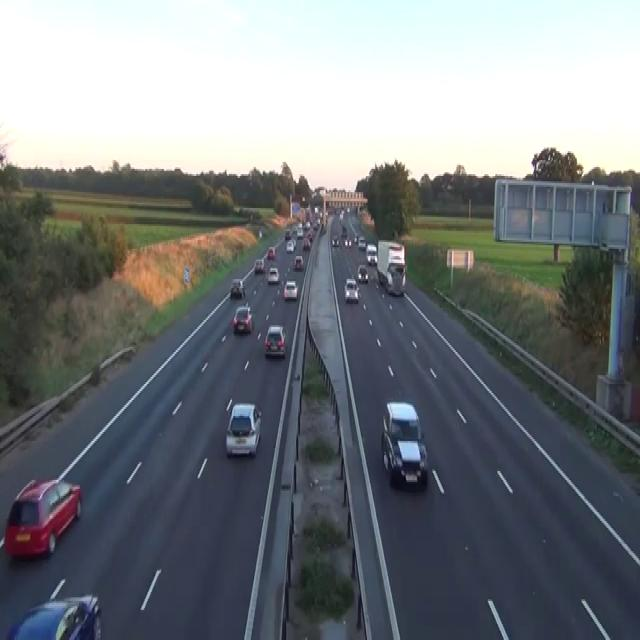Car: (4, 476, 82, 560), (6, 578, 102, 638), (380, 400, 428, 487), (225, 402, 261, 457), (264, 326, 286, 358), (385, 263, 406, 295), (233, 304, 252, 334), (387, 242, 405, 270), (344, 278, 359, 302), (283, 279, 298, 301), (230, 277, 245, 297), (366, 243, 377, 265), (357, 263, 368, 283), (267, 265, 279, 283), (254, 258, 264, 274), (293, 254, 303, 270), (267, 246, 275, 260), (358, 235, 366, 249), (285, 240, 294, 252), (302, 236, 310, 249), (296, 224, 303, 238), (331, 233, 339, 245), (306, 229, 313, 242), (344, 237, 352, 247), (290, 236, 296, 249), (284, 229, 291, 240), (339, 208, 344, 220), (341, 226, 347, 236), (304, 220, 310, 230), (313, 219, 319, 229), (291, 226, 297, 236), (321, 222, 326, 233), (314, 204, 319, 213), (353, 204, 358, 213), (354, 233, 358, 242), (258, 230, 262, 238), (346, 206, 350, 214)
Truck: (376, 240, 406, 295)
